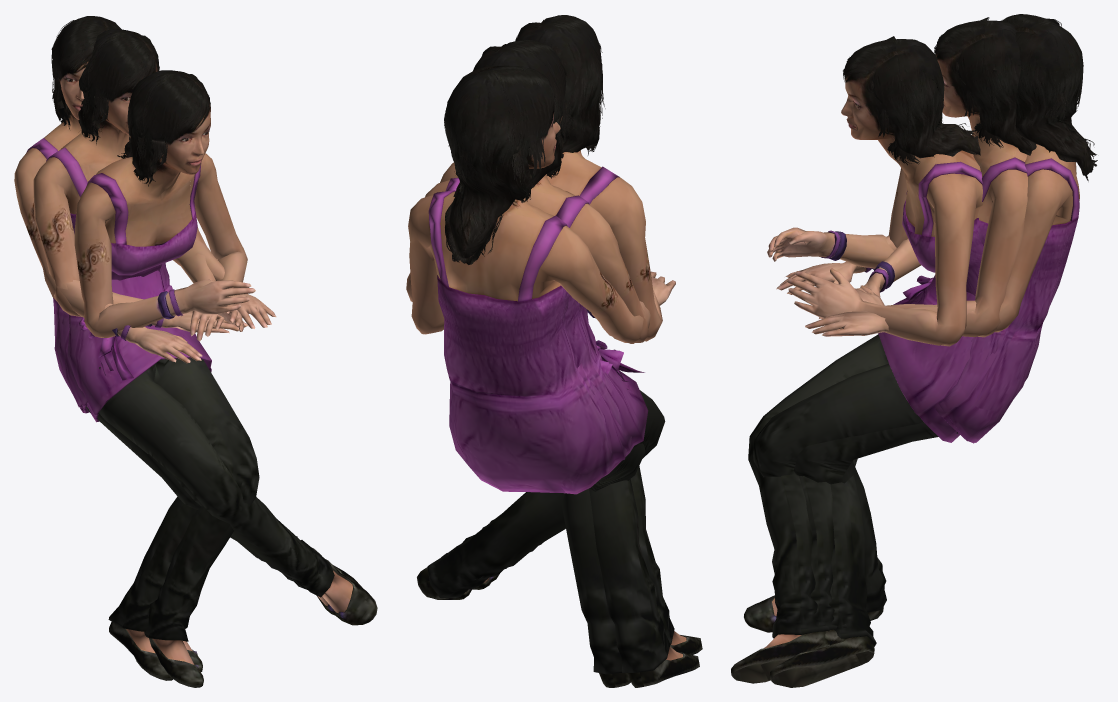
Rendered from cliente-yumi.glb.
3 views of the same model, side by side, from view 1: azimuth 30°, elevation 25°; view 2: azimuth 150°, elevation 25°; view 3: azimuth 270°, elevation 25° (orthographic). The views are drawn at different scales.
Parts seen in each view (by area): view 1: pose_2, pose_1, pose_0; view 2: pose_0, pose_1, pose_2; view 3: pose_1, pose_2, pose_0.
Boxes of the visible parts, <box> form: pose_2: <box>33,28,377,687</box>; pose_1: <box>58,70,362,671</box>; pose_0: <box>14,16,348,680</box>; pose_0: <box>408,64,699,687</box>; pose_1: <box>406,15,662,687</box>; pose_2: <box>425,40,702,654</box>; pose_1: <box>767,36,1006,687</box>; pose_2: <box>731,17,1036,683</box>; pose_0: <box>761,14,1097,680</box>.
Size of the model in its own units: 0.5872 by 1.37 by 0.7406.
3 materials, 3 textured.
